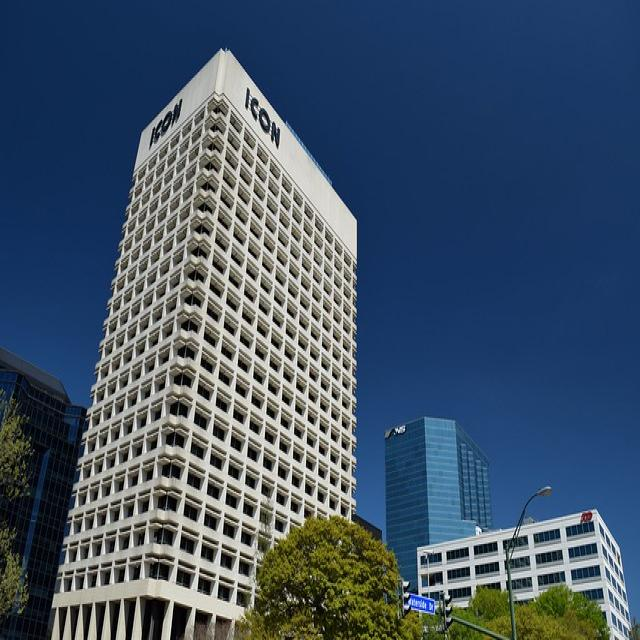building: (46, 44, 361, 632)
